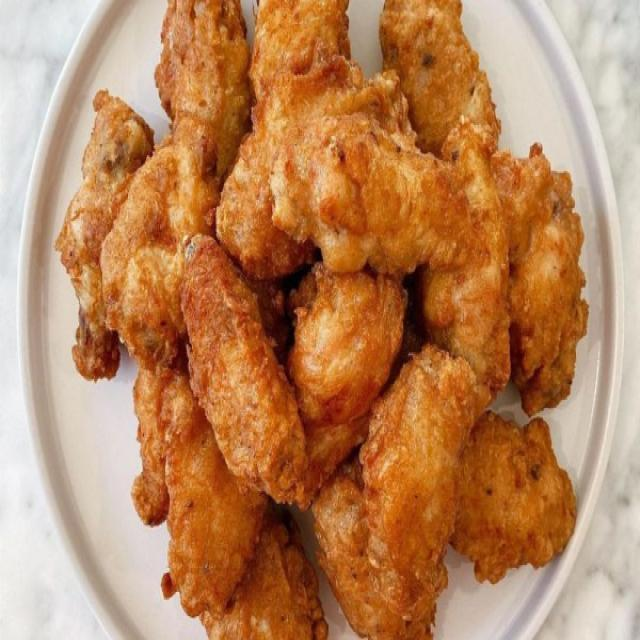ayam_goreng: (88, 2, 567, 632)
